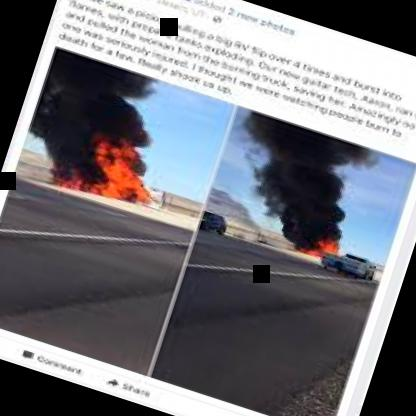fire: (18, 51, 193, 209), (235, 117, 369, 254)
